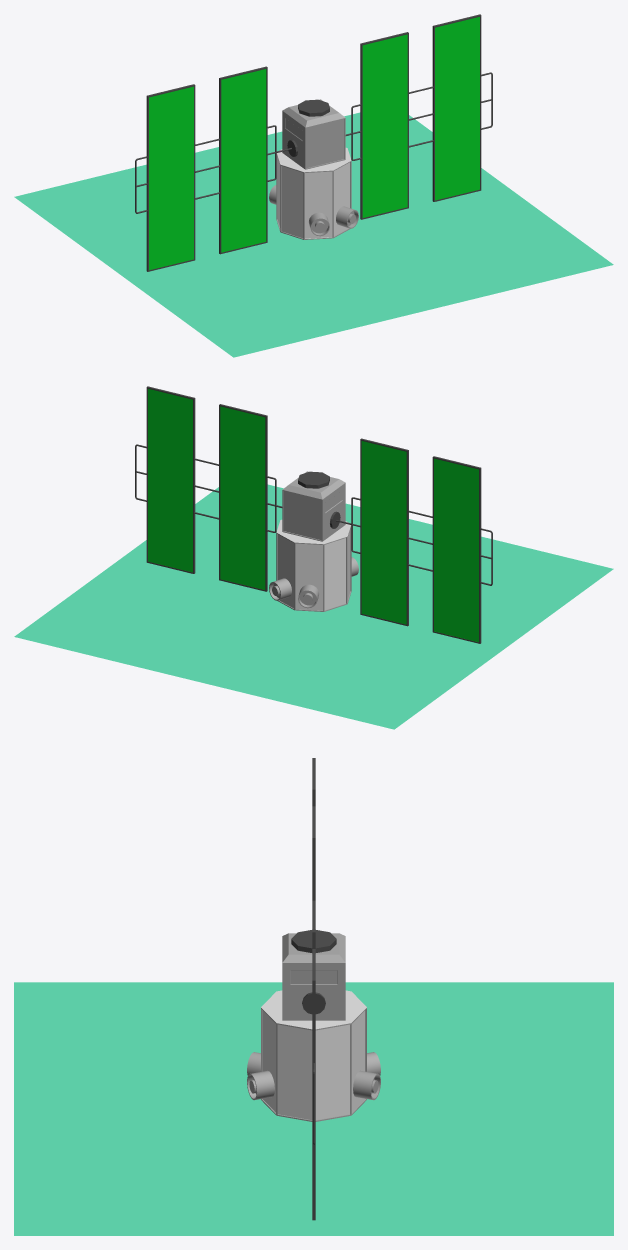
File: satellite1_green.fbx
3 renders of one model, top to bottom at view 1: azimuth 30°, elevation 25°; view 2: azimuth 150°, elevation 25°; view 3: azimuth 270°, elevation 25°, orthographic. The views are drawn at different scales.
Parts seen in each view (by area): view 1: ght_ght, pCube7, pCube6, pCube4, pCube8, pCylinder5, pCube3, pCylinder3; view 2: ght_ght, pCube7, pCube6, pCube4, pCube8, pCylinder5, pCube3, pCylinder3; view 3: ght_ght, pCylinder5, pCube3, pCube7, pCylinder3, pCylinder8, pCylinder12.
Boxes of the visible parts, x1=… form: ght_ght: x1=14, y1=112, x2=613, y2=357; pCube7: x1=432, y1=14, x2=481, y2=201; pCube6: x1=146, y1=84, x2=195, y2=271; pCube4: x1=219, y1=66, x2=267, y2=254; pCube8: x1=360, y1=32, x2=408, y2=219; pCylinder5: x1=276, y1=147, x2=351, y2=239; pCube3: x1=282, y1=99, x2=345, y2=169; pCylinder3: x1=298, y1=99, x2=329, y2=116; ght_ght: x1=14, y1=484, x2=613, y2=729; pCube7: x1=146, y1=386, x2=195, y2=573; pCube6: x1=432, y1=456, x2=481, y2=643; pCube4: x1=360, y1=438, x2=408, y2=626; pCube8: x1=219, y1=404, x2=267, y2=591; pCylinder5: x1=276, y1=519, x2=351, y2=611; pCube3: x1=282, y1=471, x2=345, y2=541; pCylinder3: x1=298, y1=471, x2=329, y2=488; ght_ght: x1=14, y1=982, x2=613, y2=1235; pCylinder5: x1=261, y1=990, x2=366, y2=1121; pCube3: x1=282, y1=933, x2=345, y2=1020; pCube7: x1=312, y1=949, x2=315, y2=1220; pCylinder3: x1=291, y1=930, x2=336, y2=952; pCylinder8: x1=247, y1=1070, x2=274, y2=1100; pCylinder12: x1=353, y1=1070, x2=380, y2=1100.
Bounding box in the file's own units: 8 × 3.53 × 8.
